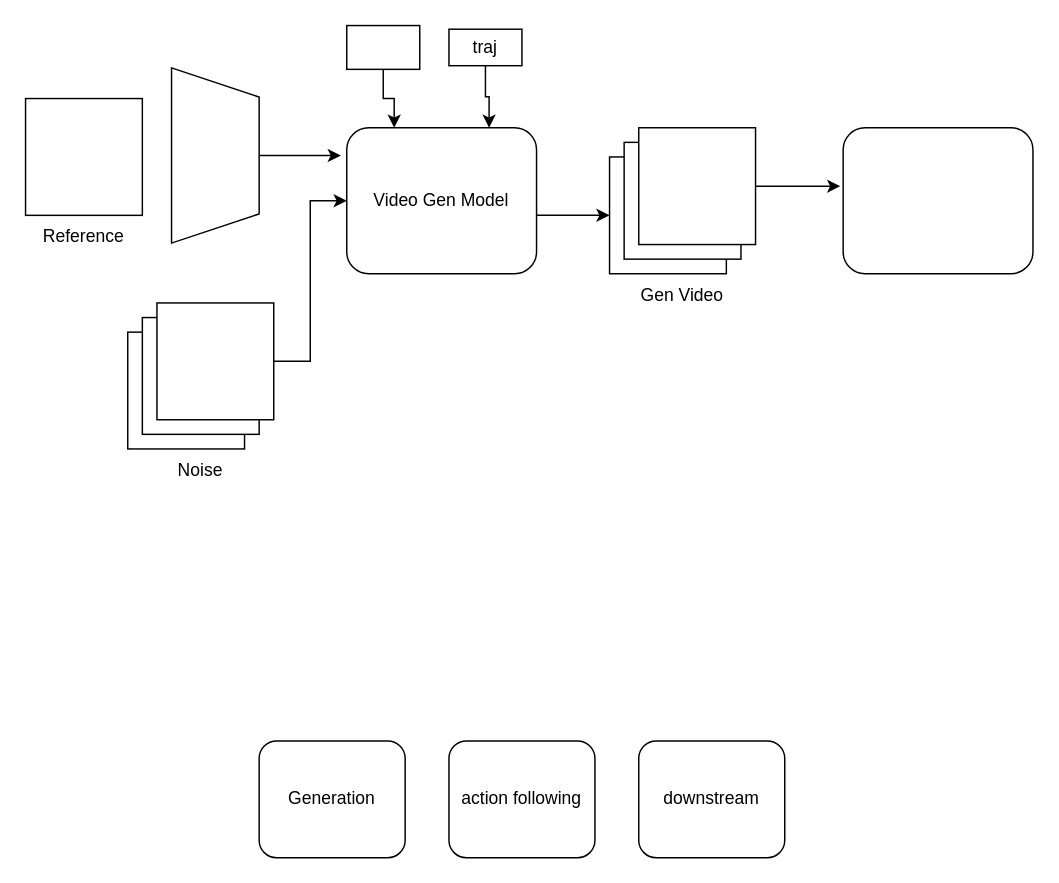
Some shapes in this 1059 by 883 pixel diagram are drawn without their labels. The shapes that lost their labels are listed below. From the top down, each one's centre as x and y in pixels, then its label:
At (382,46): "Text".
At (937,200): "reward model".
